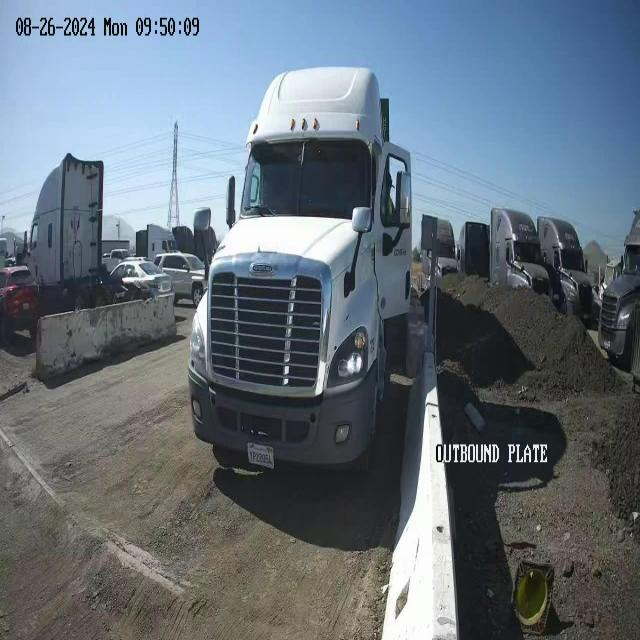TRUCK_OUT: (187, 64, 423, 478)
